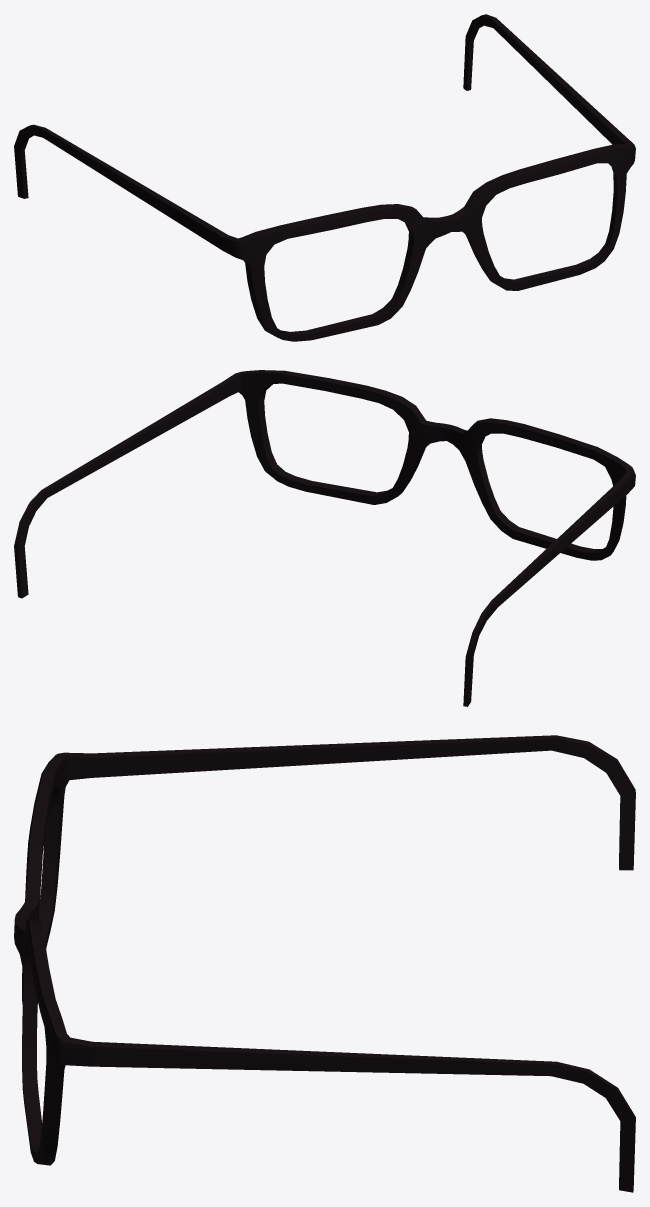
The picture shows the model from 3 angles, top to bottom: view 1: azimuth 30°, elevation 25°; view 2: azimuth 150°, elevation 25°; view 3: azimuth 270°, elevation 25°; orthographic projection. The views are drawn at different scales.
Visible parts, largest first — view 1: Wolf3D_Glasses; view 2: Wolf3D_Glasses; view 3: Wolf3D_Glasses.
Part boxes in pixels (<box>): Wolf3D_Glasses: <box>14,14,635,341</box>; Wolf3D_Glasses: <box>14,370,635,706</box>; Wolf3D_Glasses: <box>14,735,635,1192</box>.
Size of the model in its own units: 0.1647 by 0.0403 by 0.1308.
1 material, 1 textured.
